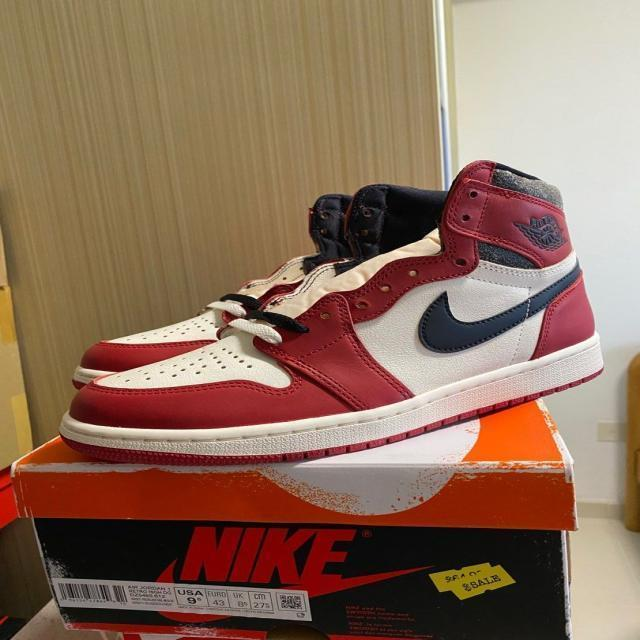nike original jordan 1: (60, 162, 602, 467), (66, 197, 372, 388)
